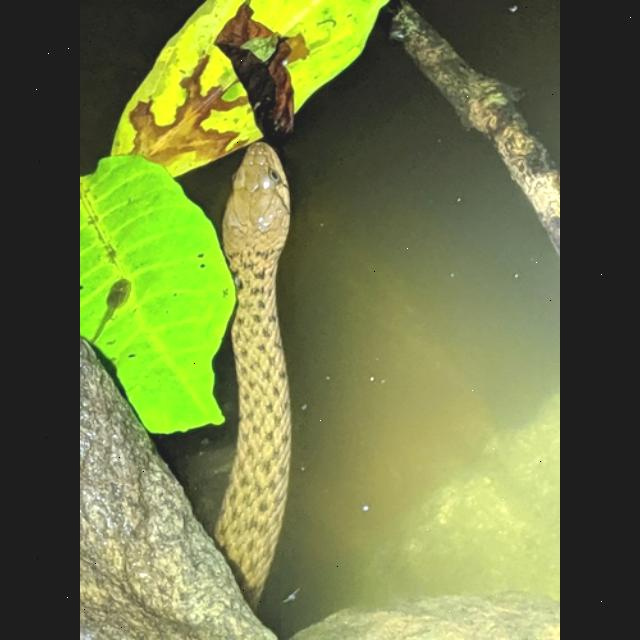snake: (205, 134, 293, 602)
